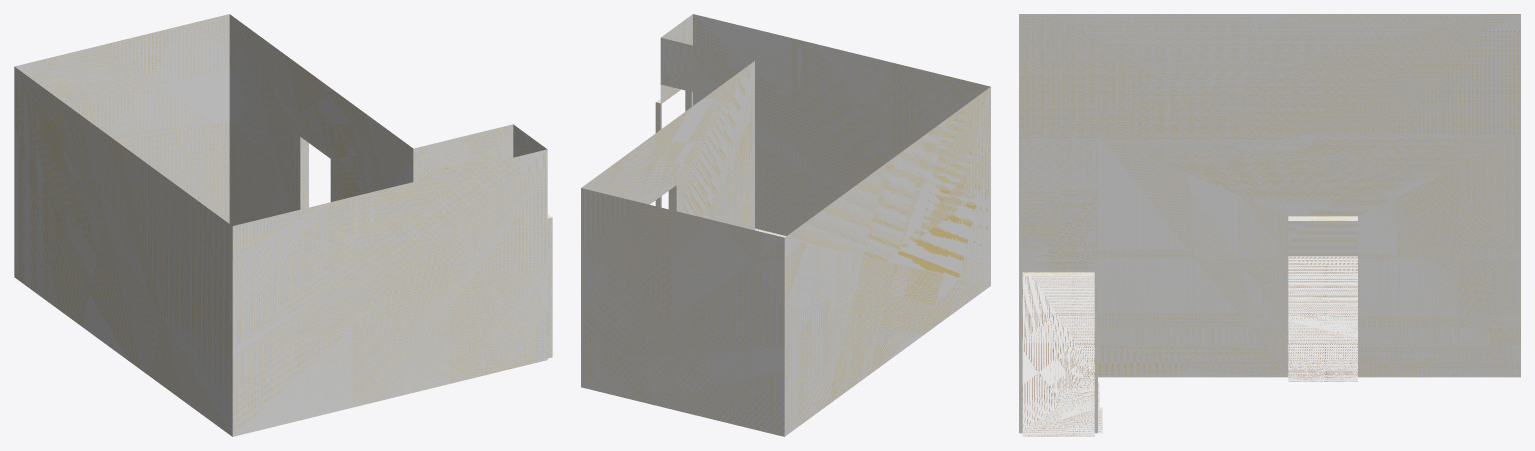
File: CUA003.obj
The picture shows the model from 3 angles, left to right: view 1: azimuth 30°, elevation 25°; view 2: azimuth 150°, elevation 25°; view 3: azimuth 270°, elevation 25°; orthographic projection. The views are drawn at different scales.
Parts seen in each view (by area): view 1: Mesh1 COM003 Model; view 2: Mesh1 COM003 Model; view 3: Mesh1 COM003 Model.
Boxes of the visible parts, x1,y1,x2,y2 form: Mesh1 COM003 Model: (14, 14, 552, 436); Mesh1 COM003 Model: (581, 14, 990, 436); Mesh1 COM003 Model: (1019, 14, 1520, 436).
Size of the model in its own units: 4.78 by 2.99 by 5.62.
3 materials, 1 textured.
